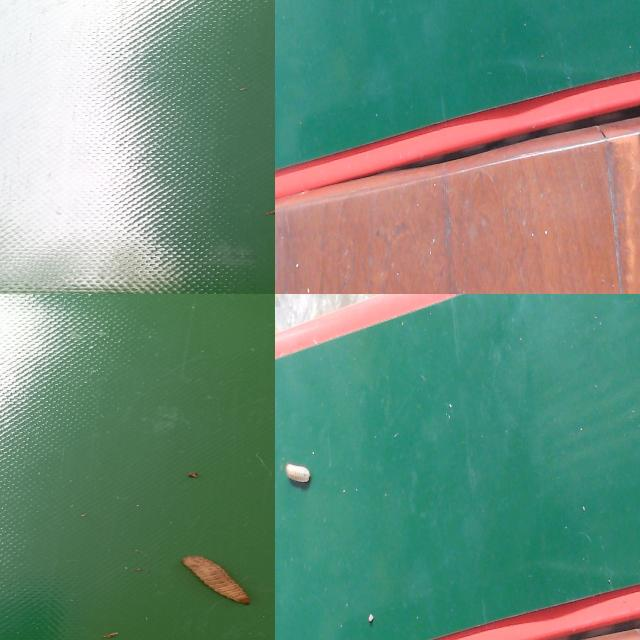Maggot: (182, 556, 251, 607), (282, 463, 310, 491)
